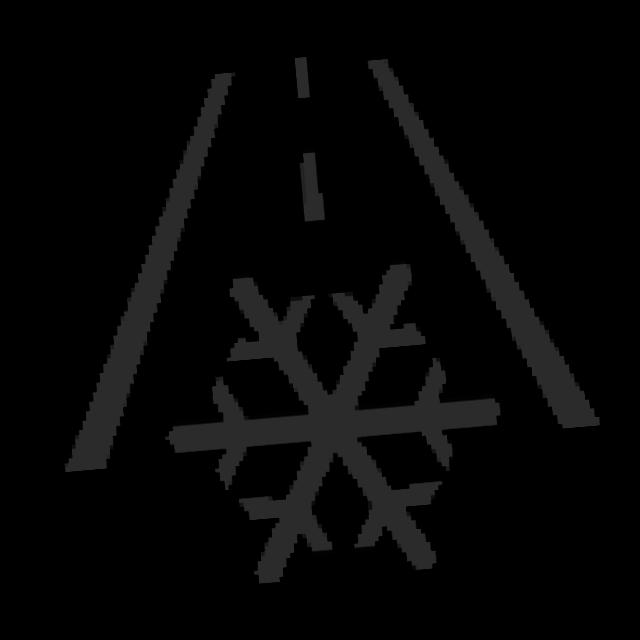kontrolka: (29, 28, 611, 555)
